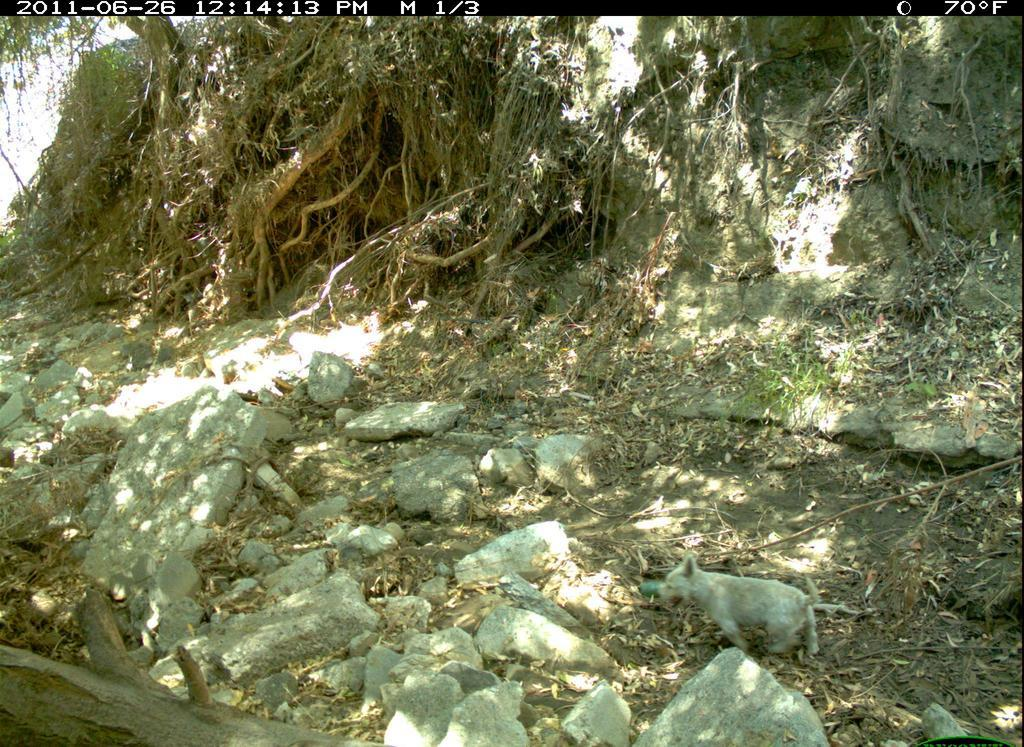dog: (646, 552, 829, 665)
